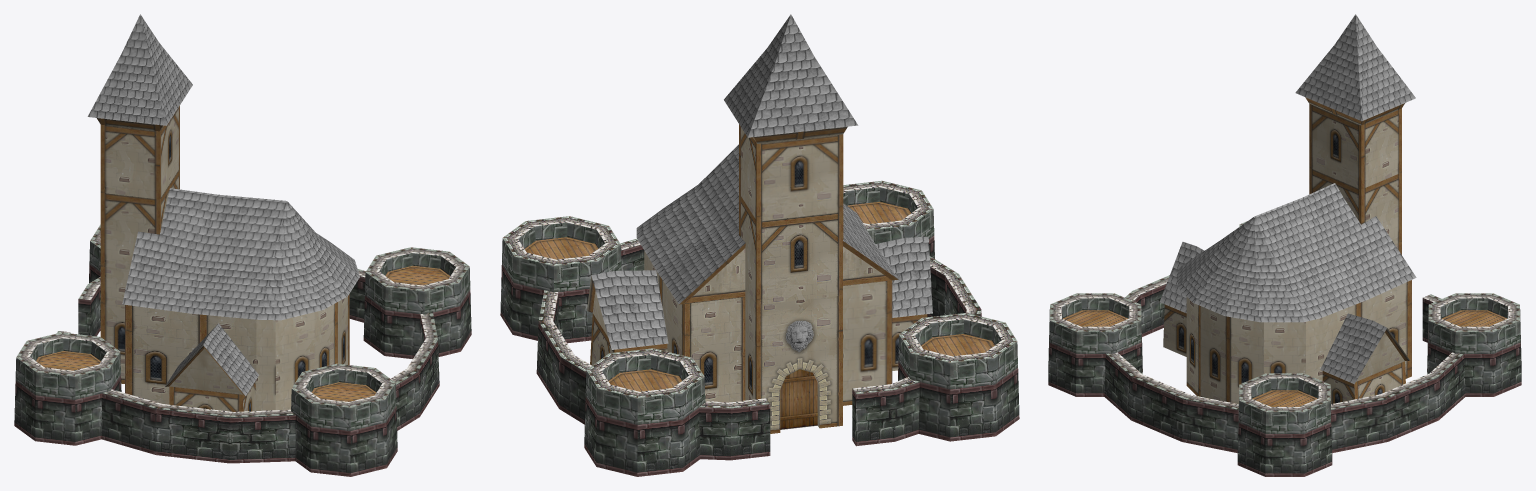
File: h_town_hall.FBX
3 renders of one model, left to right at view 1: azimuth 30°, elevation 25°; view 2: azimuth 150°, elevation 25°; view 3: azimuth 270°, elevation 25°, orthographic. The views are drawn at different scales.
Visible parts, largest first — view 1: h_town_hall; view 2: h_town_hall; view 3: h_town_hall.
Part boxes in pixels (box(x1,y1,x2,y2)): h_town_hall: box(14, 14, 471, 476); h_town_hall: box(500, 14, 1019, 476); h_town_hall: box(1048, 14, 1521, 476).
Size of the model in its own units: 400 by 310 by 400.
